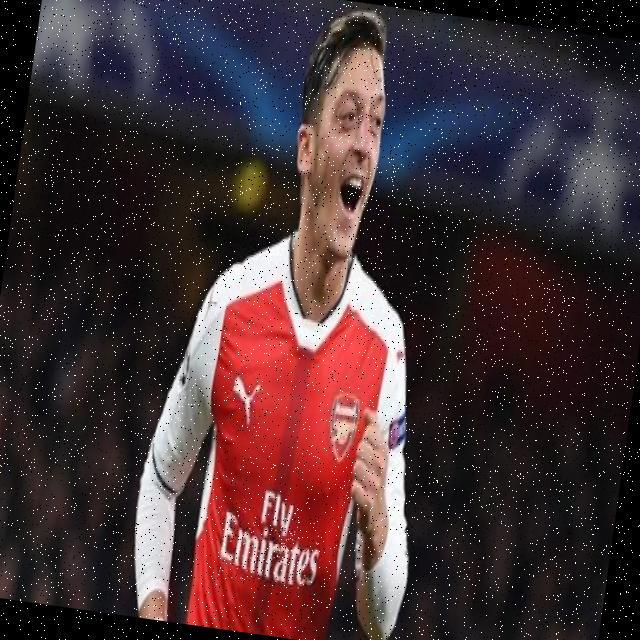Emirates: (217, 509, 324, 591)
Puma: (228, 373, 263, 431)
